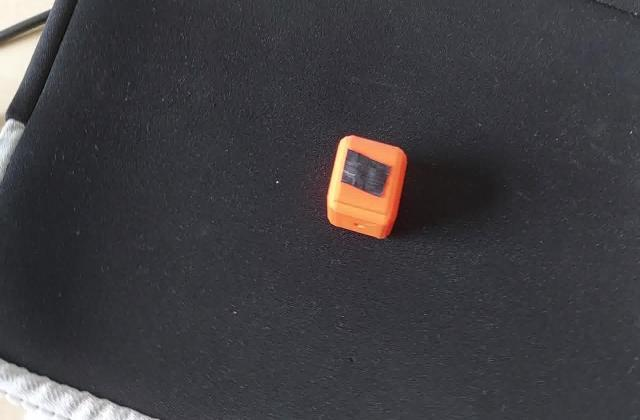black: (337, 151, 397, 199)
sticker: (324, 132, 411, 245)
